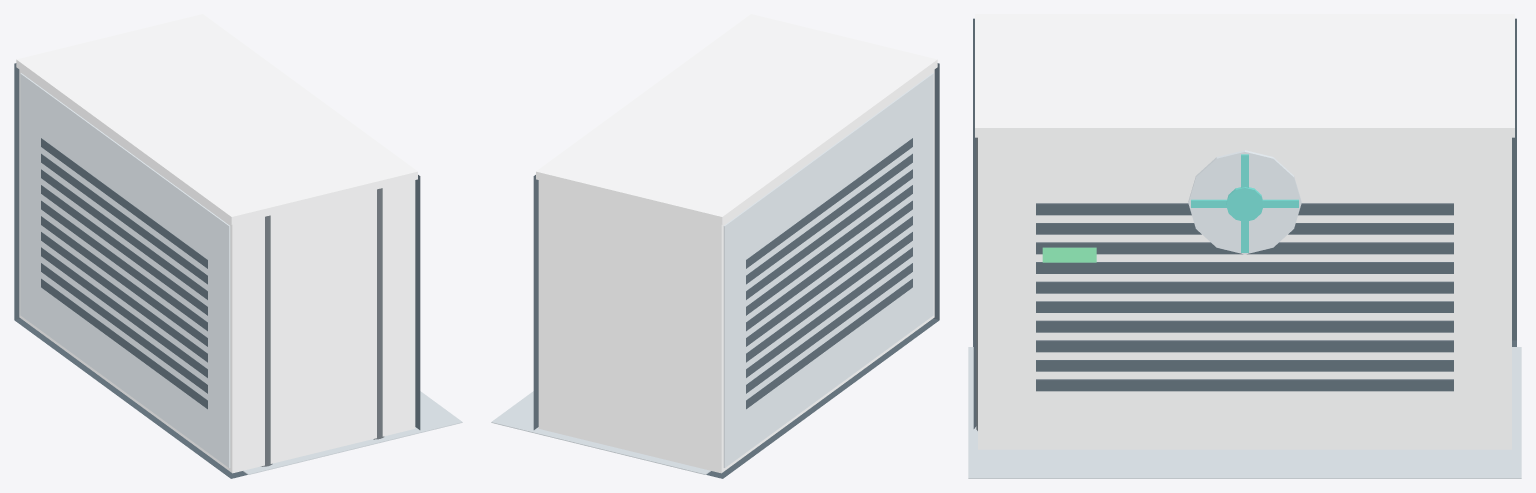
The model's file is cooling-unit.glb.
3 views of the same model, side by side, from view 1: azimuth 30°, elevation 25°; view 2: azimuth 150°, elevation 25°; view 3: azimuth 270°, elevation 25° (orthographic). The views are drawn at different scales.
Visible parts, largest first — view 1: cooling-unit; view 2: cooling-unit; view 3: cooling-unit.
Part boxes in pixels (<box>): cooling-unit: <box>14,14,462,478</box>; cooling-unit: <box>491,14,939,478</box>; cooling-unit: <box>968,14,1521,478</box>.
Size of the model in its own units: 2.47 by 2.68 by 4.1.
